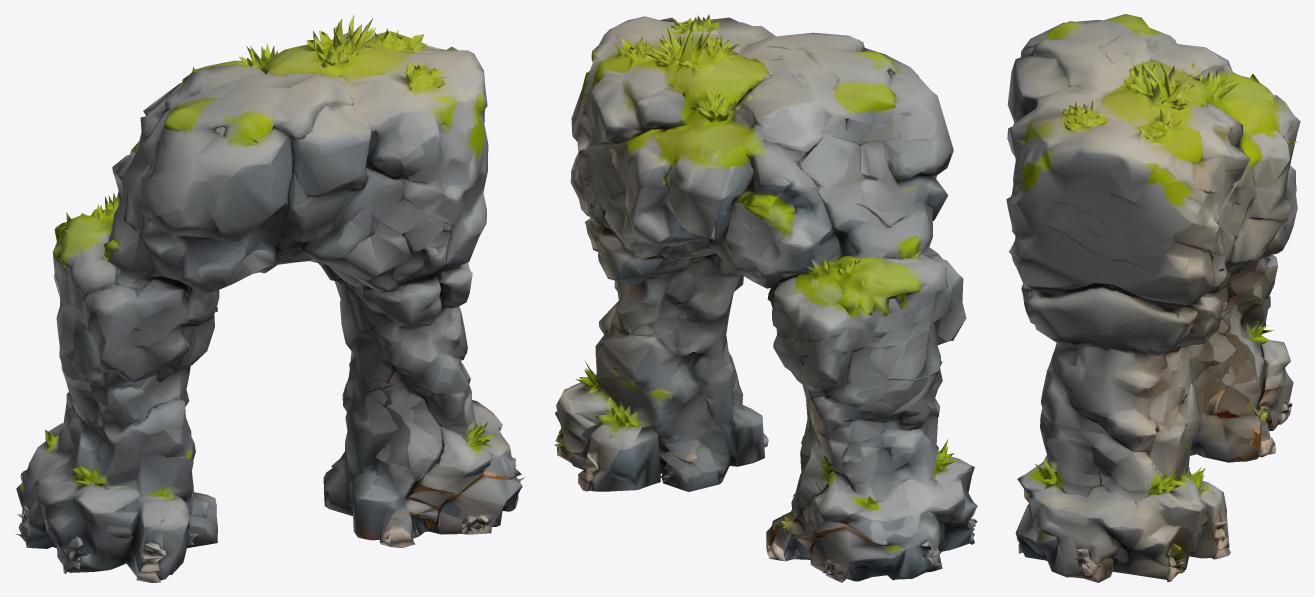
Rendered from env-arch.glb.
3 views of the same model, side by side, from view 1: azimuth 30°, elevation 25°; view 2: azimuth 150°, elevation 25°; view 3: azimuth 270°, elevation 25° (orthographic). The views are drawn at different scales.
Visible parts, largest first — view 1: tripo_node_ec0c3bbc-8a1f-4549-875d-3c1848913798; view 2: tripo_node_ec0c3bbc-8a1f-4549-875d-3c1848913798; view 3: tripo_node_ec0c3bbc-8a1f-4549-875d-3c1848913798.
Part boxes in pixels (<box>): tripo_node_ec0c3bbc-8a1f-4549-875d-3c1848913798: <box>15,14,525,582</box>; tripo_node_ec0c3bbc-8a1f-4549-875d-3c1848913798: <box>554,14,977,582</box>; tripo_node_ec0c3bbc-8a1f-4549-875d-3c1848913798: <box>1006,14,1300,582</box>.
Size of the model in its own units: 0.9615 by 1 by 0.5841.
1 material, 1 textured.
